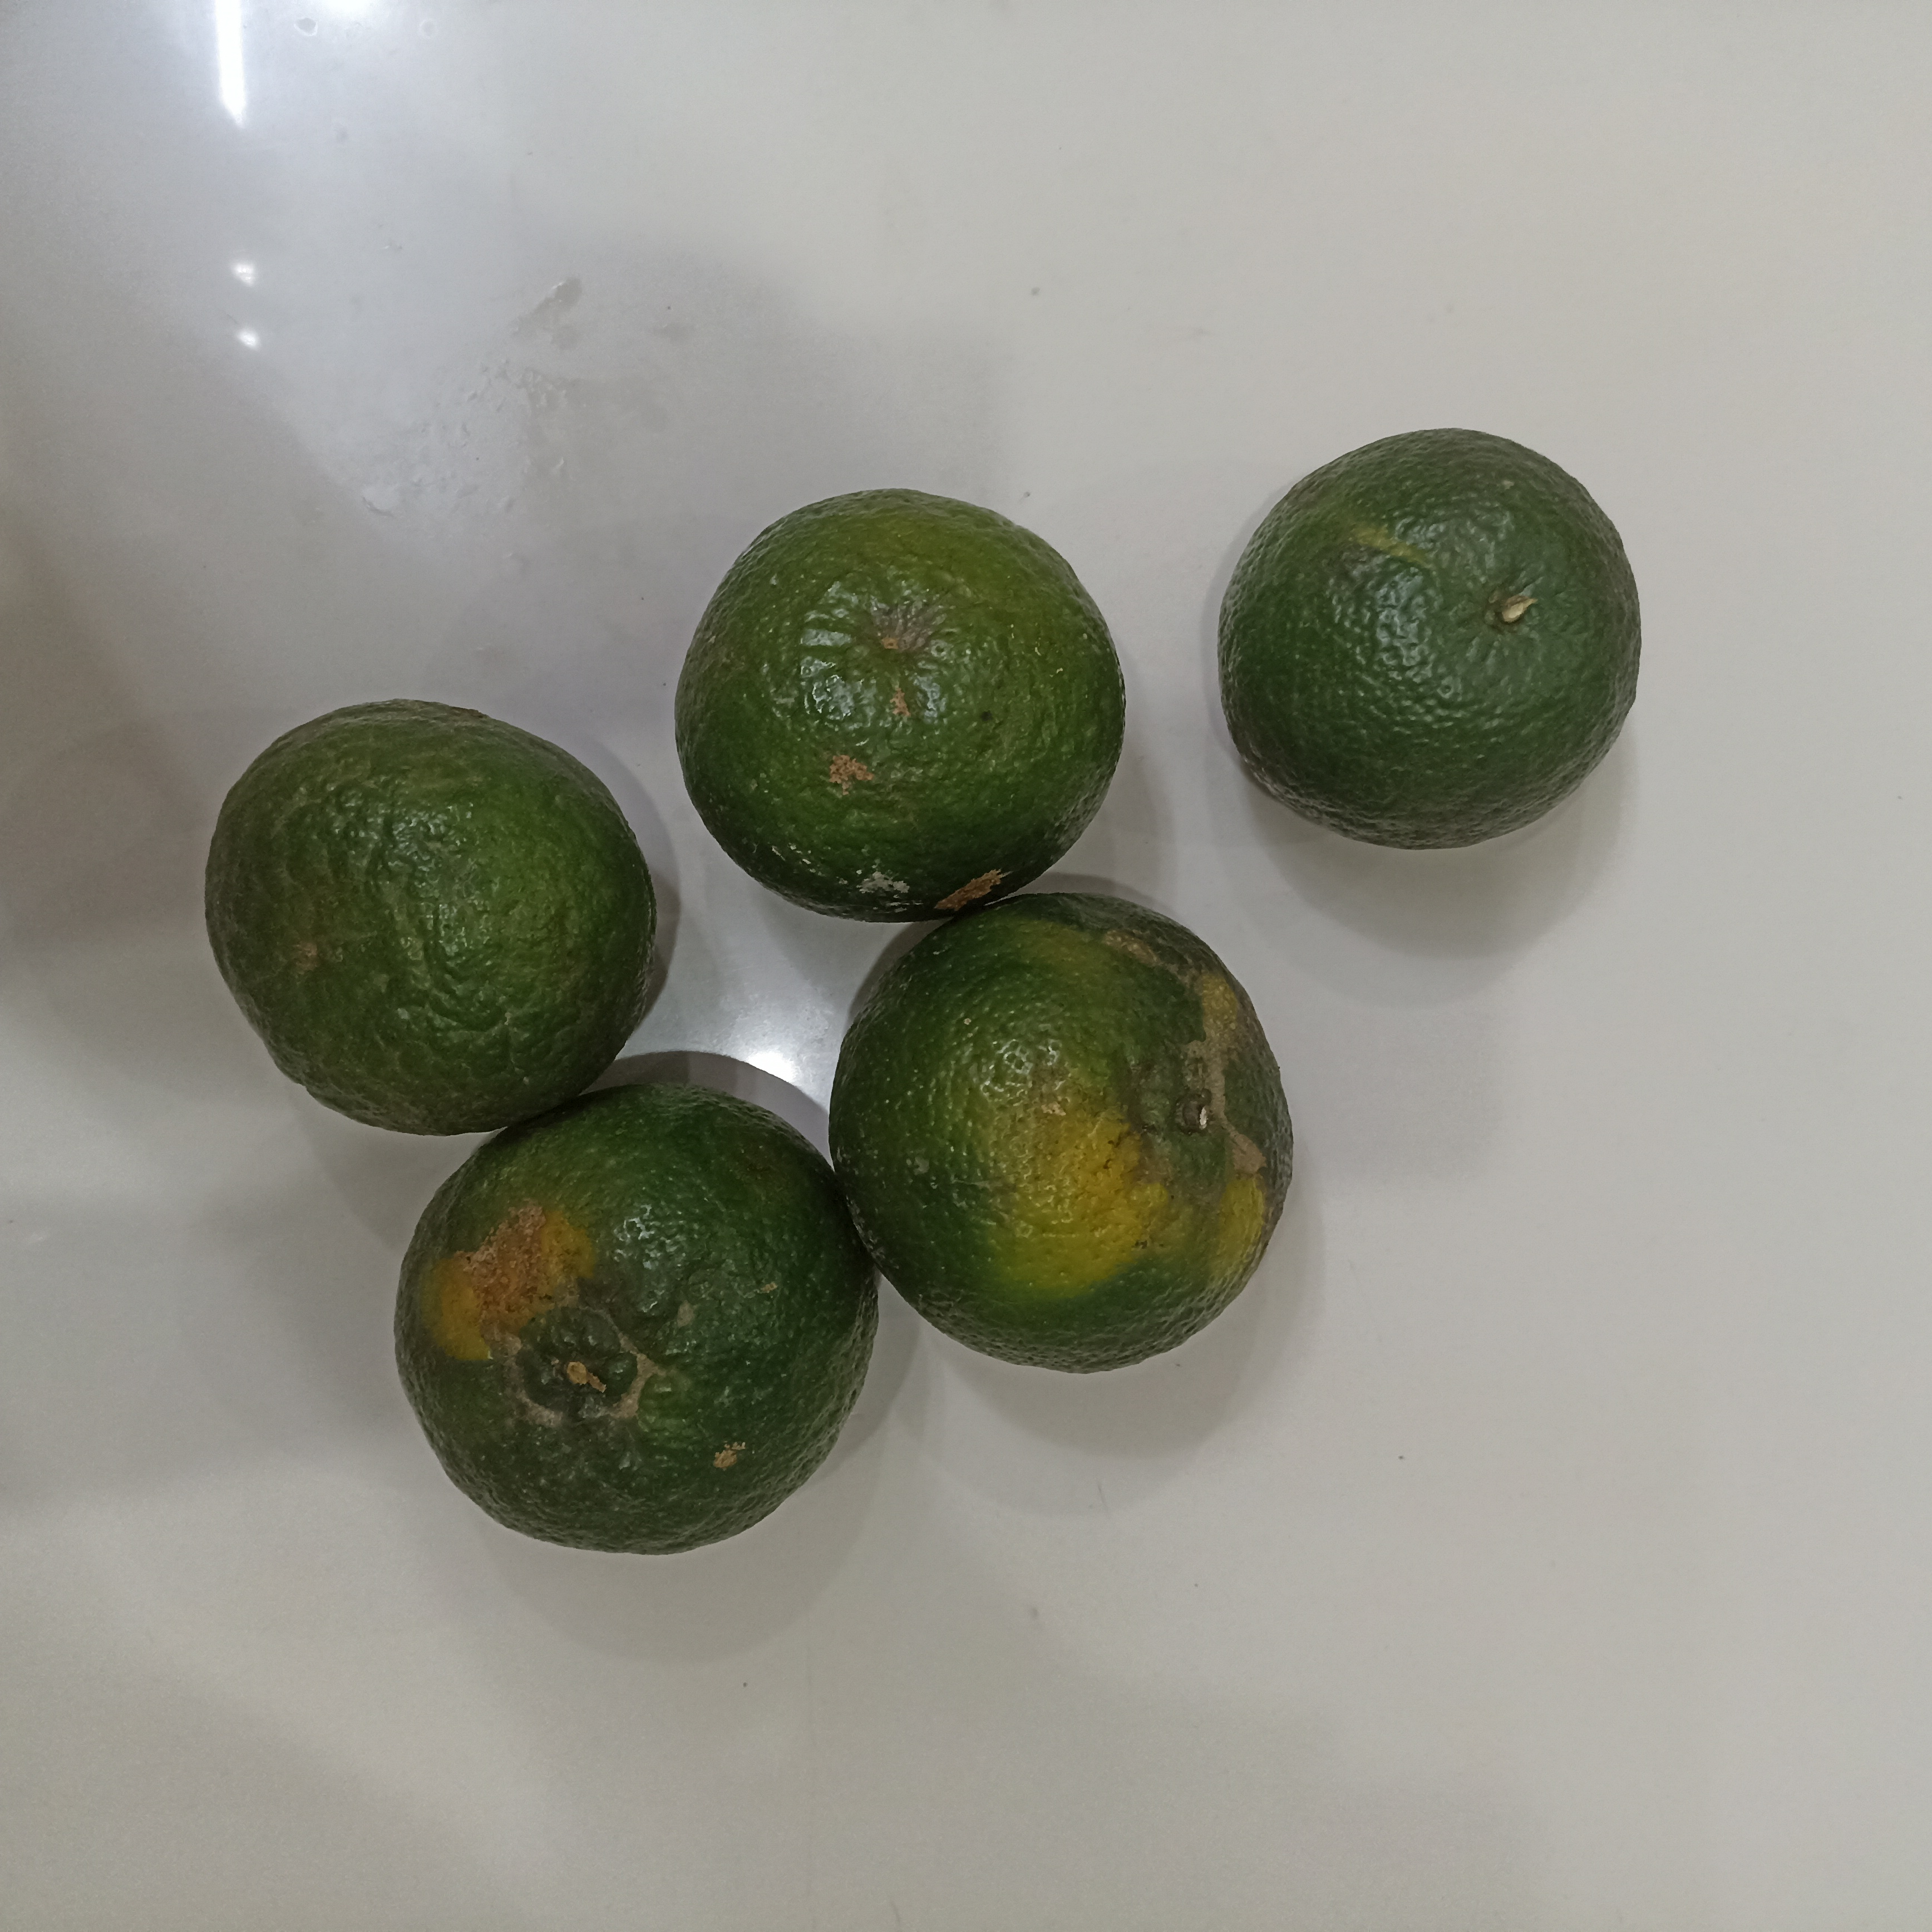Cam: (396, 1088, 876, 1555), (830, 900, 1292, 1372), (674, 487, 1122, 932), (202, 701, 658, 1137), (1219, 428, 1642, 854)
